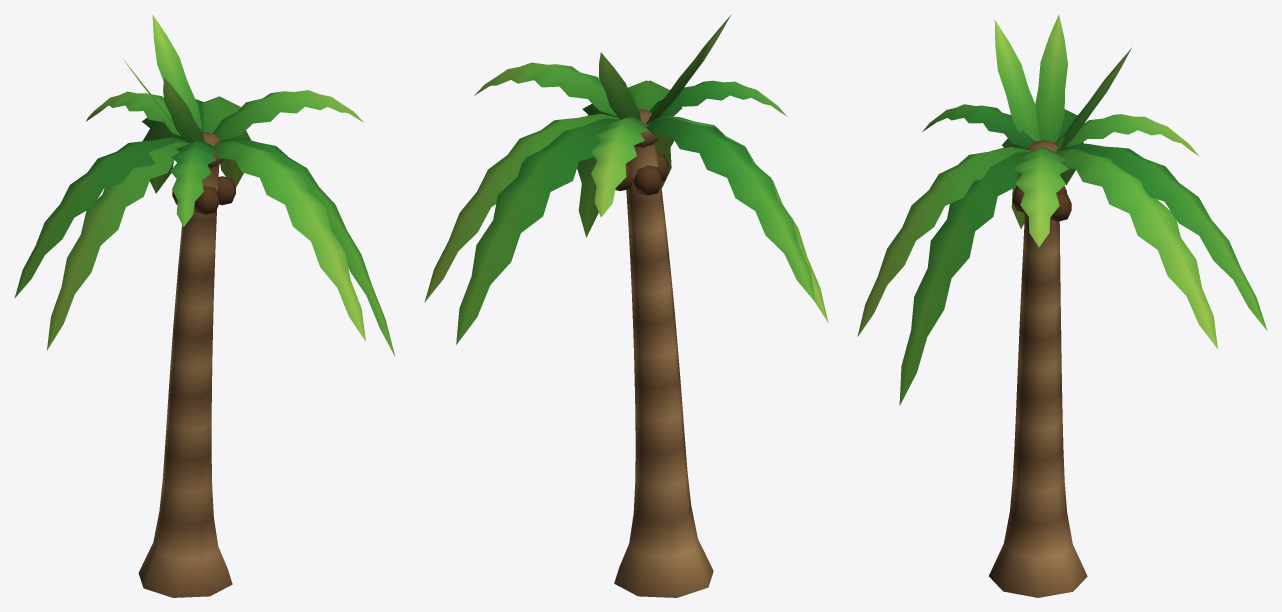
Rendered from Palm_Young.obj.
3 views of the same model, side by side, from view 1: azimuth 30°, elevation 25°; view 2: azimuth 150°, elevation 25°; view 3: azimuth 270°, elevation 25° (orthographic). The views are drawn at different scales.
Parts seen in each view (by area): view 1: Palm_Young; view 2: Palm_Young; view 3: Palm_Young.
Part boxes in pixels (<box>): Palm_Young: <box>14,14,395,597</box>; Palm_Young: <box>424,15,828,597</box>; Palm_Young: <box>857,14,1267,597</box>.
Size of the model in its own units: 0.8556 by 1.28 by 0.8891.
Materials: 1 (1 with a texture image).
